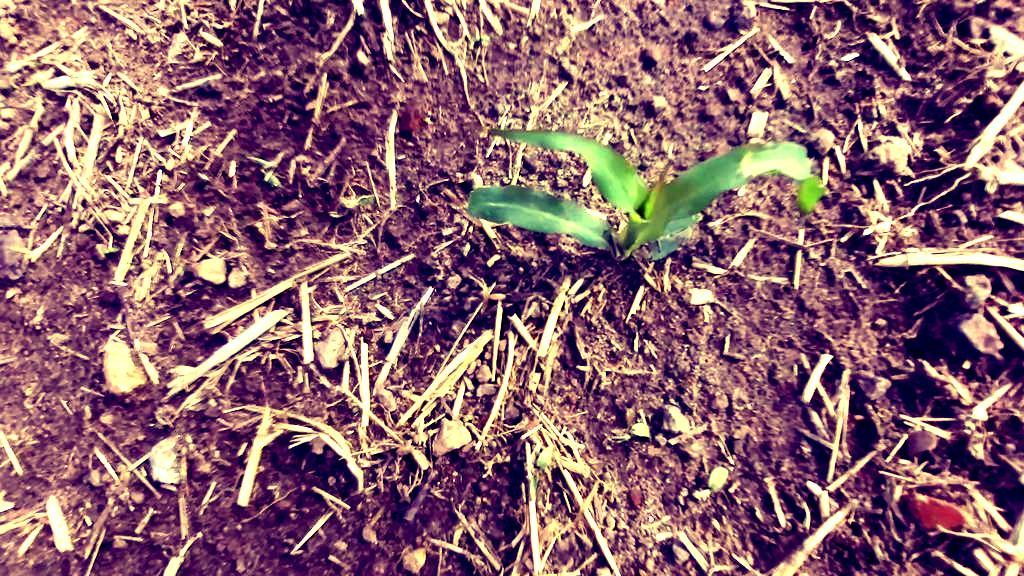BroWeed: (520, 441, 556, 501), (690, 463, 733, 507), (325, 189, 379, 221), (246, 137, 287, 178), (608, 422, 653, 445), (398, 114, 424, 135), (0, 76, 21, 98), (266, 173, 285, 190), (462, 414, 478, 424), (104, 246, 121, 254), (30, 61, 44, 69), (474, 35, 490, 41), (127, 187, 137, 196)
Maize: (463, 125, 828, 271)
